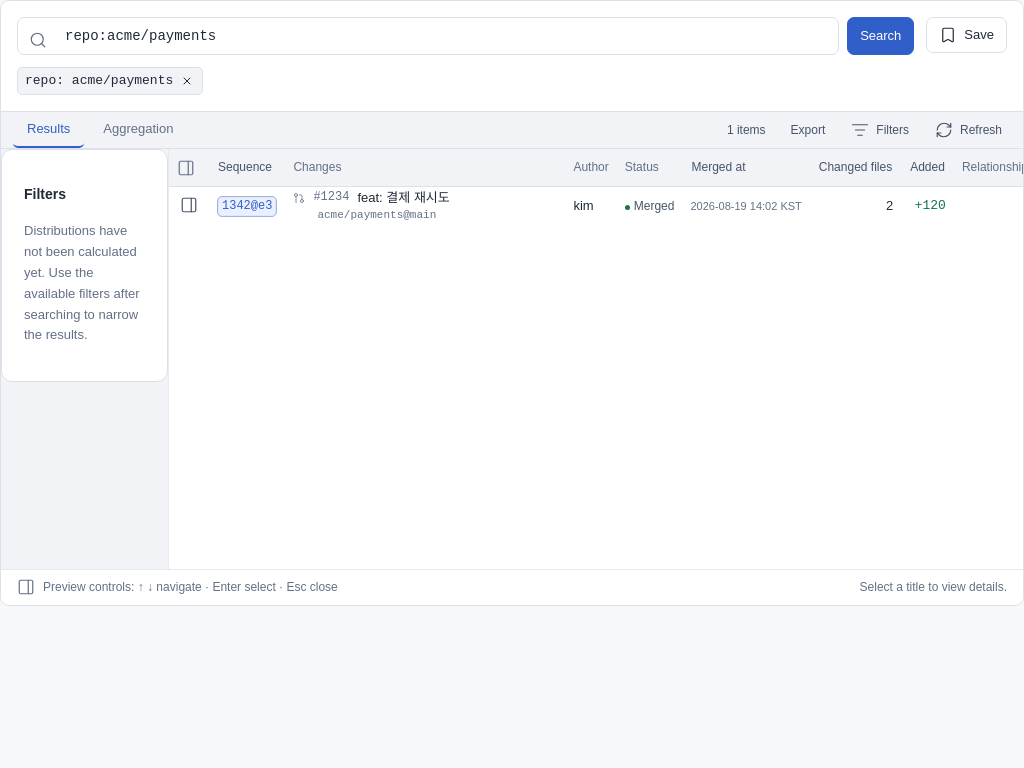
Test case: 결과·집계 탭 (CR-093, Conductor Tabs · W-001-AGG) › **집계를 다녀와도 결과 패널의 선택이 남는다** — 결과 패널은 언마운트하지 않는다
Click the button named "#1234 Preview". click: coordinates (189, 205)
box: [177,193,201,217]
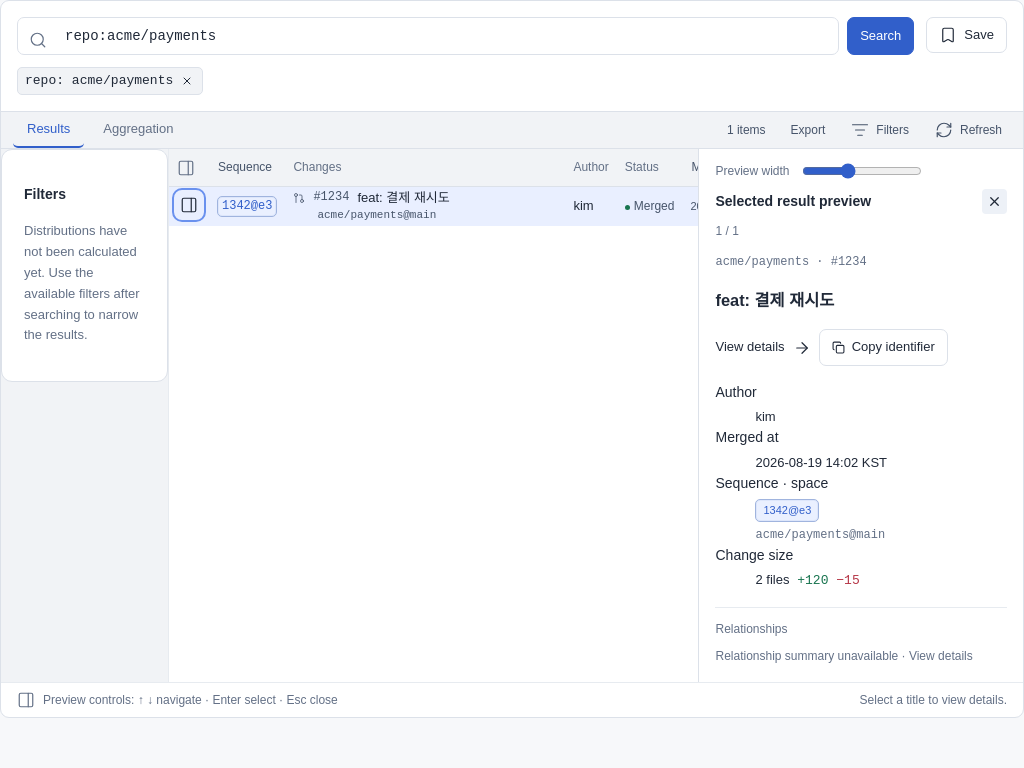
Expected: the element "Selected result preview" is shown, [716,189,1007,666]
Click the tab "Aggregation". click: coordinates (138, 130)
box: [89,112,188,148]
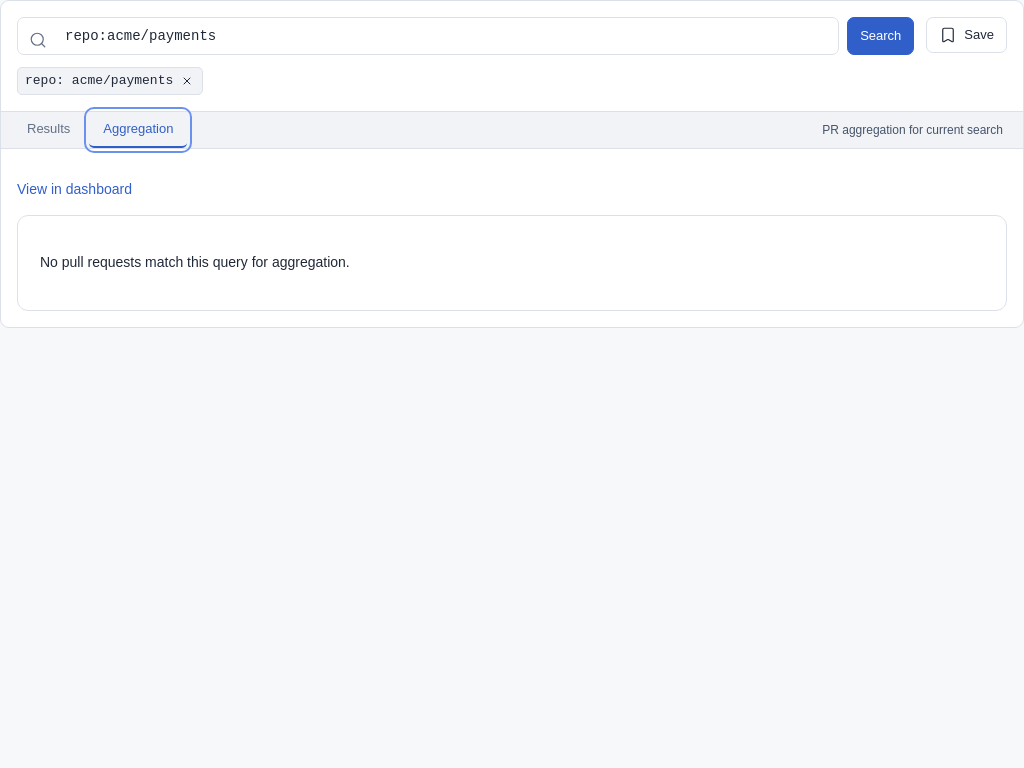
Expected: the tab "Aggregation" is selected, [89,112,188,148]
Click the tab "Results". click: coordinates (49, 130)
box: [13,112,84,148]
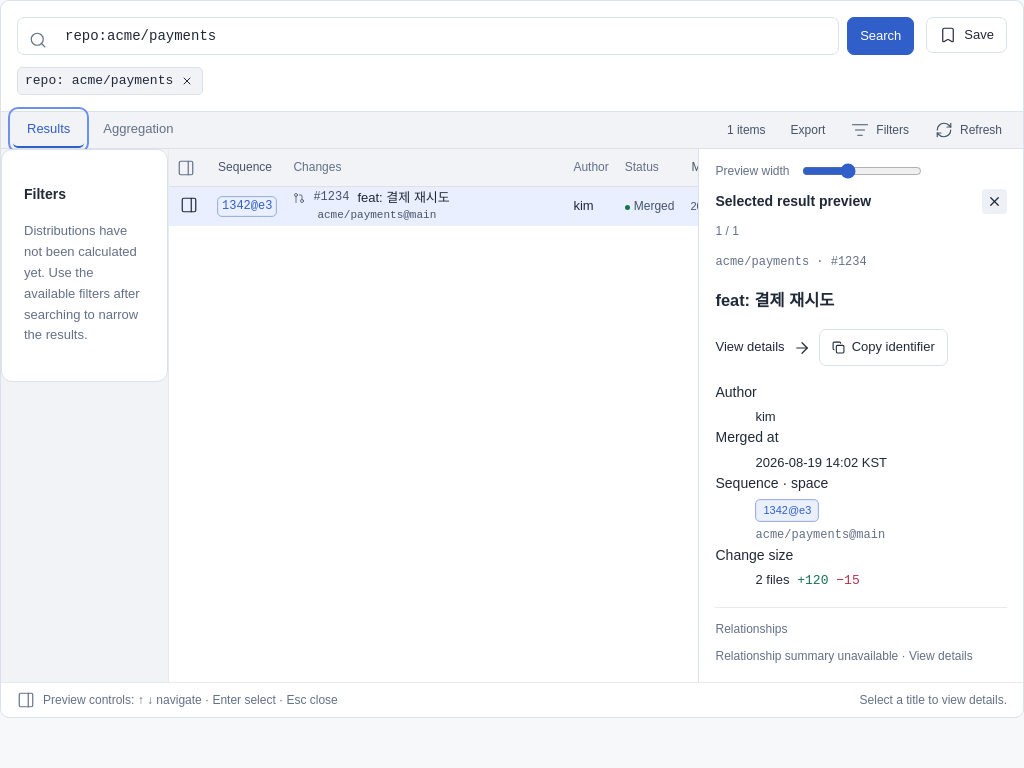
Expected: the element "Selected result preview" is shown, [716,189,1007,666]
